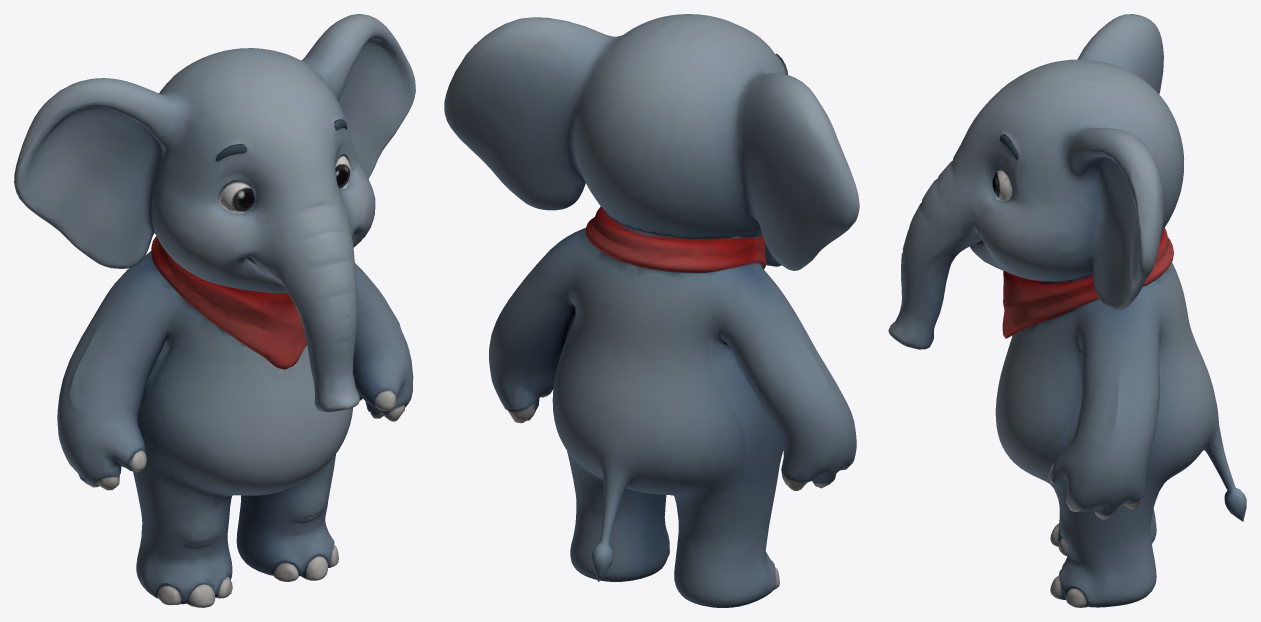
File: elephant.glb
3 views of the same model, side by side, from view 1: azimuth 30°, elevation 25°; view 2: azimuth 150°, elevation 25°; view 3: azimuth 270°, elevation 25° (orthographic). The views are drawn at different scales.
Visible parts, largest first — view 1: tripo_node_1f539d42-a822-4d5e-97f5-d090be642756; view 2: tripo_node_1f539d42-a822-4d5e-97f5-d090be642756; view 3: tripo_node_1f539d42-a822-4d5e-97f5-d090be642756.
Boxes of the visible parts, x1,y1,x2,y2 form: tripo_node_1f539d42-a822-4d5e-97f5-d090be642756: [14, 14, 415, 607]; tripo_node_1f539d42-a822-4d5e-97f5-d090be642756: [444, 14, 859, 607]; tripo_node_1f539d42-a822-4d5e-97f5-d090be642756: [888, 14, 1246, 607].
Bounding box in the file's own units: 0.7802 × 0.9777 × 0.6358.
1 material, 1 textured.
